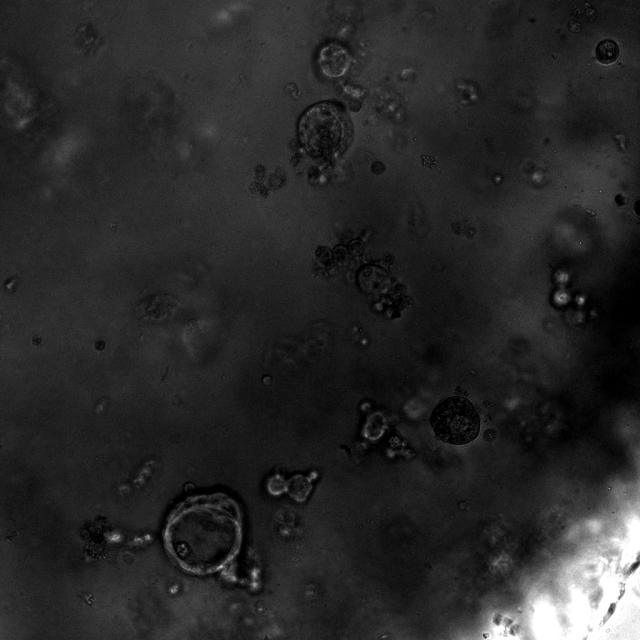organoid: (161, 482, 262, 592), (313, 236, 412, 319), (289, 100, 354, 185), (318, 43, 364, 99), (429, 395, 479, 445), (266, 470, 318, 503), (79, 515, 113, 560), (249, 164, 287, 198), (596, 39, 619, 64), (347, 97, 362, 112), (371, 160, 385, 174)
